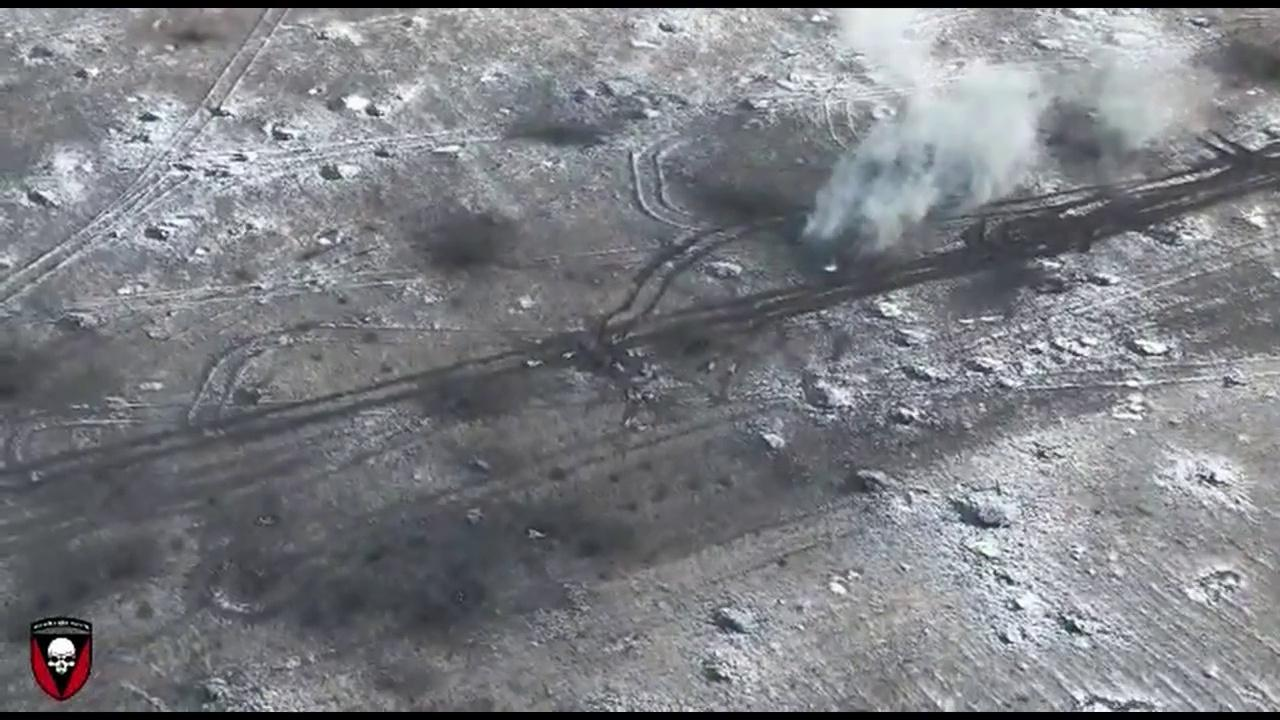person: (759, 426, 785, 450), (464, 507, 487, 527), (467, 456, 495, 470), (527, 525, 551, 541), (525, 357, 544, 369), (563, 349, 575, 358)
